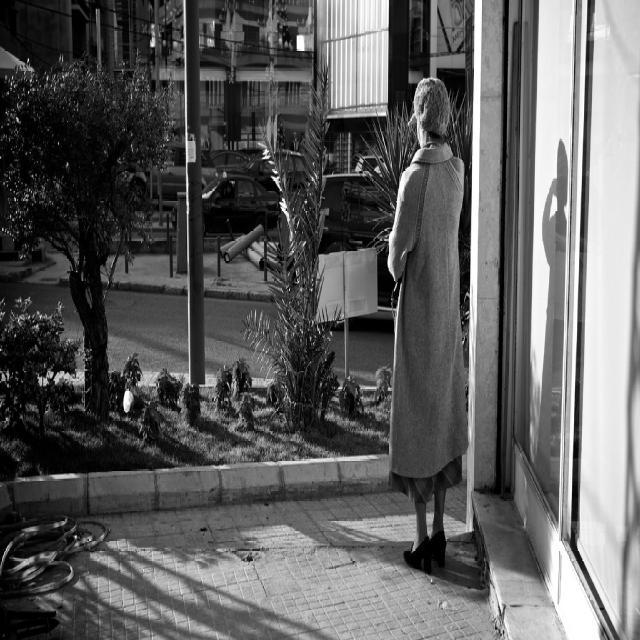person: (384, 75, 482, 578)
